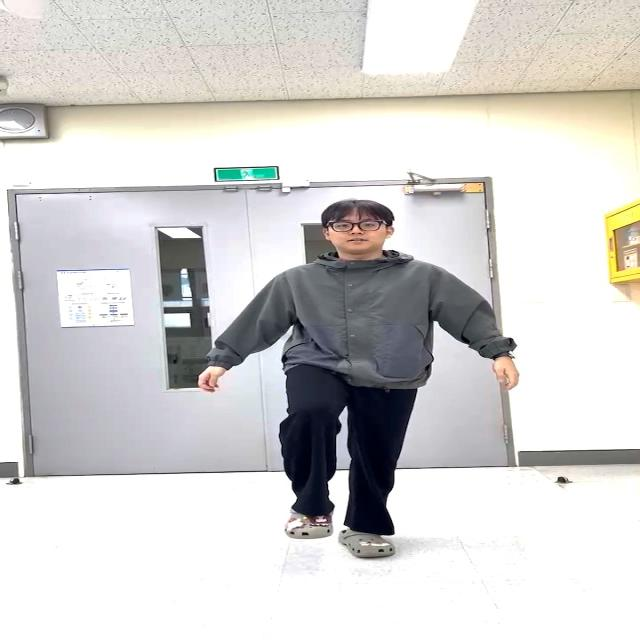leg: (256, 357, 348, 561)
